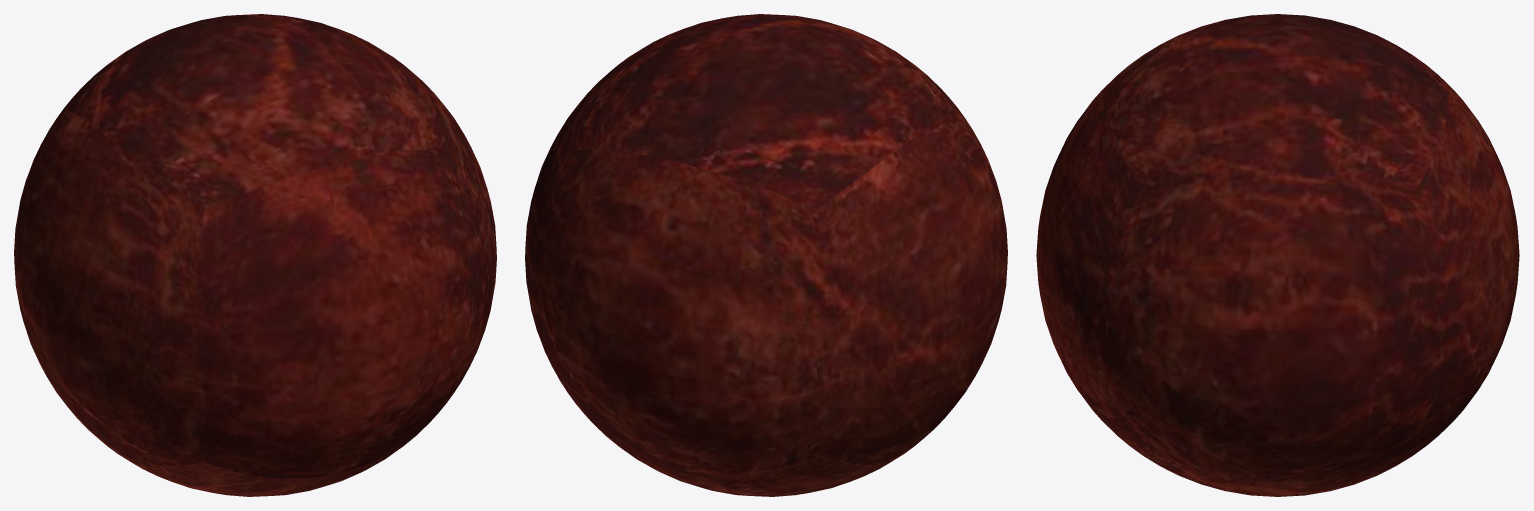
The model's file is esfera_vermelha.obj.
The picture shows the model from 3 angles, left to right: view 1: azimuth 30°, elevation 25°; view 2: azimuth 150°, elevation 25°; view 3: azimuth 270°, elevation 25°; orthographic projection.
Visible parts, largest first — view 1: esfera_vermelha; view 2: esfera_vermelha; view 3: esfera_vermelha.
Part boxes in pixels (<box>): esfera_vermelha: <box>14,14,496,496</box>; esfera_vermelha: <box>525,14,1007,496</box>; esfera_vermelha: <box>1036,14,1519,496</box>.
Bounding box in the file's own units: 2.57 × 2.57 × 2.57.
Materials: 1 (1 with a texture image).
